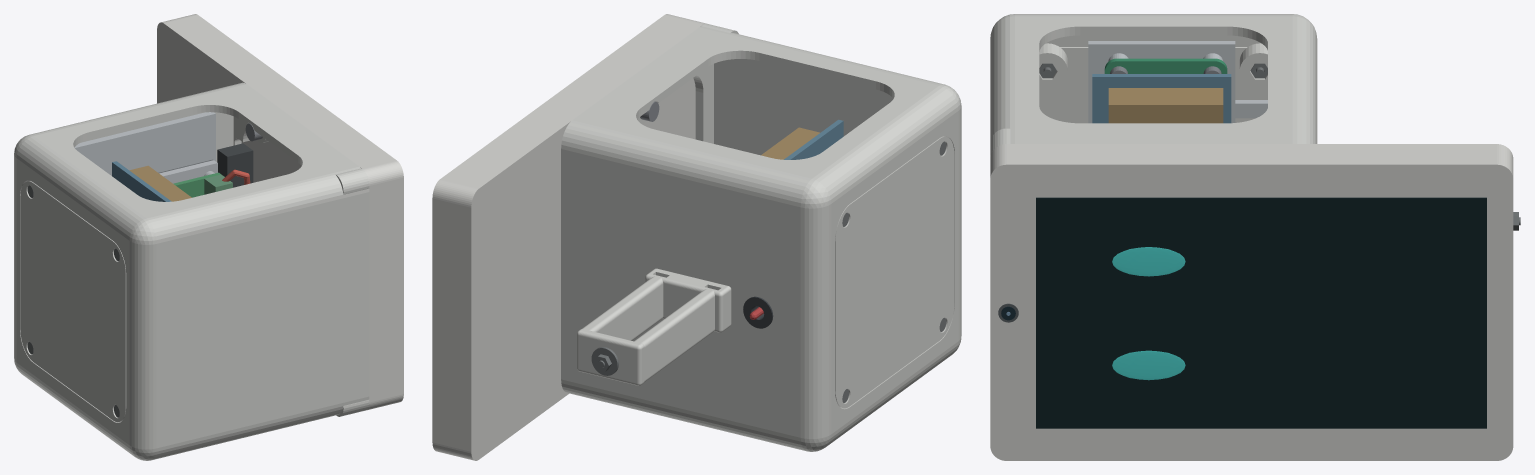
The model's file is upper_assembly.glb.
3 renders of one model, left to right at view 1: azimuth 30°, elevation 25°; view 2: azimuth 150°, elevation 25°; view 3: azimuth 270°, elevation 25°, orthographic. The views are drawn at different scales.
Parts seen in each view (by area): view 1: assembly_body_cage_visual, tab5_visual, print_rear_cover_visual, assembly_electronics_carrier_visual, assembly_tab5_m5bus_plug_proxy_visual, assembly_robot_hat_pcb_proxy_visual, assembly_robot_hat_components_proxy_visual, assembly_protection_tray_visual, assembly_protection_pcb_proxy_visual, assembly_power_output_connector_proxy_visual; view 2: assembly_body_cage_visual, tab5_visual, print_rear_cover_visual, assembly_central_mount_visual, assembly_robot_hat_pcb_proxy_visual, assembly_robot_hat_components_proxy_visual, assembly_power_feedthrough_grommet_visual, print_rear_hardware_visual; view 3: screen, tab5_visual, assembly_body_cage_visual, assembly_robot_hat_components_proxy_visual, assembly_electronics_carrier_visual, print_rear_cover_visual, assembly_robot_hat_pcb_proxy_visual, eye_left, eye_right, assembly_radxa_pcb_visual, print_rear_hardware_visual.
Boxes of the visible parts, x1,y1,x2,y2 form: assembly_body_cage_visual: [14, 82, 369, 460]; tab5_visual: [157, 14, 403, 410]; print_rear_cover_visual: [20, 181, 126, 422]; assembly_electronics_carrier_visual: [74, 112, 215, 175]; assembly_tab5_m5bus_plug_proxy_visual: [217, 143, 253, 187]; assembly_robot_hat_pcb_proxy_visual: [112, 161, 171, 201]; assembly_robot_hat_components_proxy_visual: [129, 165, 191, 201]; assembly_protection_tray_visual: [159, 160, 217, 183]; assembly_protection_pcb_proxy_visual: [173, 172, 220, 197]; assembly_power_output_connector_proxy_visual: [204, 174, 232, 194]; assembly_body_cage_visual: [561, 23, 961, 451]; tab5_visual: [432, 14, 705, 460]; print_rear_cover_visual: [835, 136, 954, 408]; assembly_central_mount_visual: [577, 268, 731, 385]; assembly_robot_hat_pcb_proxy_visual: [784, 119, 843, 159]; assembly_robot_hat_components_proxy_visual: [761, 127, 819, 159]; assembly_power_feedthrough_grommet_visual: [743, 296, 773, 328]; print_rear_hardware_visual: [594, 141, 946, 402]; screen: [1036, 197, 1486, 428]; tab5_visual: [990, 144, 1513, 460]; assembly_body_cage_visual: [990, 14, 1317, 156]; assembly_robot_hat_components_proxy_visual: [1108, 88, 1223, 123]; assembly_electronics_carrier_visual: [1088, 41, 1267, 123]; print_rear_cover_visual: [1039, 47, 1267, 123]; assembly_robot_hat_pcb_proxy_visual: [1092, 74, 1231, 123]; eye_left: [1112, 350, 1185, 380]; eye_right: [1112, 247, 1185, 276]; assembly_radxa_pcb_visual: [1104, 58, 1227, 73]; print_rear_hardware_visual: [1039, 63, 1520, 230].
Size of the model in its own units: 0.0927 by 0.08 by 0.1298.
